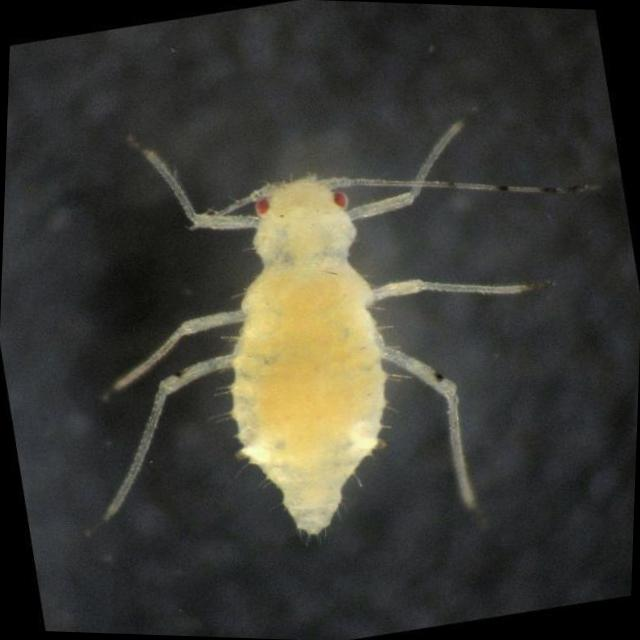aphid: (19, 74, 606, 584)
